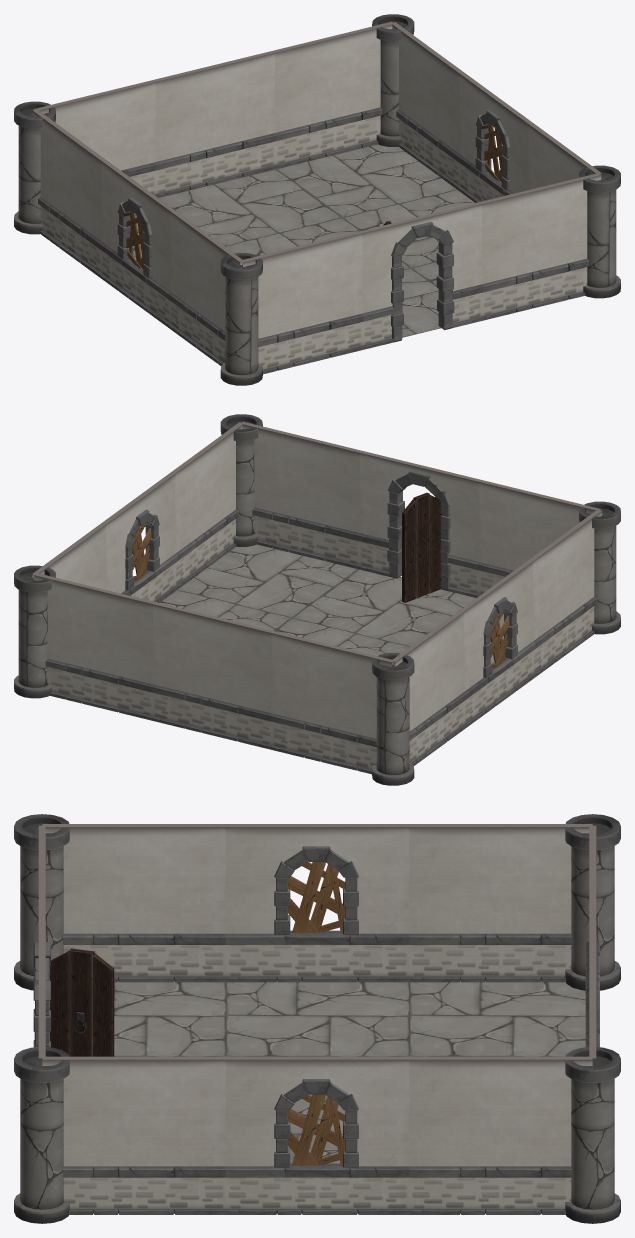
Rendered from SM_bigRoom.fbx.
3 views of the same model, one above another, from view 1: azimuth 30°, elevation 25°; view 2: azimuth 150°, elevation 25°; view 3: azimuth 270°, elevation 25° (orthographic). The views are drawn at different scales.
Visible parts, largest first — view 1: SM_wall43, SM_wall40, SM_wall42, SM_wall37, SM_wallDoor2, SM_wallWindow10, SM_floor68, SM_wall36, SM_wall38, SM_floor71, SM_wallWindow11, SM_wall41 (+9 smaller); view 2: SM_wall43, SM_wall42, SM_wall40, SM_wall41, SM_wallDoor2, SM_wallWindow10, SM_wall35, SM_wall39, SM_floor72, SM_floor64, SM_wallWindow11, SM_wall37 (+9 smaller); view 3: SM_wallWindow10, SM_wallWindow11, SM_wall39, SM_wall38, SM_wall36, SM_wall35, SM_floor67, SM_floor69, SM_floor65, SM_pillarHuge38, SM_pillarHuge39, SM_pillarHuge37 (+8 smaller).
Boxes of the visible parts, bbox=[...] form: SM_wall43: bbox=[153, 51, 276, 197]; SM_wall40: bbox=[479, 173, 601, 320]; SM_wall42: bbox=[273, 21, 392, 168]; SM_wall37: bbox=[240, 231, 363, 374]; SM_wallDoor2: bbox=[360, 202, 483, 349]; SM_wallWindow10: bbox=[99, 160, 174, 327]; SM_floor68: bbox=[158, 169, 342, 246]; SM_wall36: bbox=[32, 109, 105, 276]; SM_wall38: bbox=[391, 22, 463, 189]; SM_floor71: bbox=[277, 144, 456, 217]; SM_wallWindow11: bbox=[457, 72, 532, 202]; SM_wall41: bbox=[33, 80, 156, 196]; SM_wall43: bbox=[151, 602, 274, 749]; SM_wall42: bbox=[33, 573, 155, 720]; SM_wall40: bbox=[241, 421, 361, 568]; SM_wall41: bbox=[271, 631, 394, 774]; SM_wallDoor2: bbox=[358, 451, 481, 597]; SM_wallWindow10: bbox=[460, 560, 535, 727]; SM_wall35: bbox=[529, 509, 602, 676]; SM_wall39: bbox=[171, 422, 243, 589]; SM_floor72: bbox=[178, 544, 357, 617]; SM_floor64: bbox=[292, 569, 476, 646]; SM_wallWindow11: bbox=[102, 472, 177, 602]; SM_wall37: bbox=[478, 480, 601, 596]; SM_wallWindow10: bbox=[225, 824, 409, 982]; SM_wallWindow11: bbox=[225, 1056, 409, 1214]; SM_wall39: bbox=[42, 1056, 225, 1214]; SM_wall38: bbox=[409, 1056, 592, 1214]; SM_wall36: bbox=[409, 824, 592, 982]; SM_wall35: bbox=[42, 824, 225, 982]; SM_floor67: bbox=[225, 981, 409, 1056]; SM_floor69: bbox=[409, 981, 585, 1056]; SM_floor65: bbox=[49, 981, 225, 1056]; SM_pillarHuge38: bbox=[565, 1047, 620, 1223]; SM_pillarHuge39: bbox=[14, 1047, 69, 1223]; SM_pillarHuge37: bbox=[565, 814, 620, 990].
Bounding box in the file's own units: 19.99 × 5.59 × 19.99.
